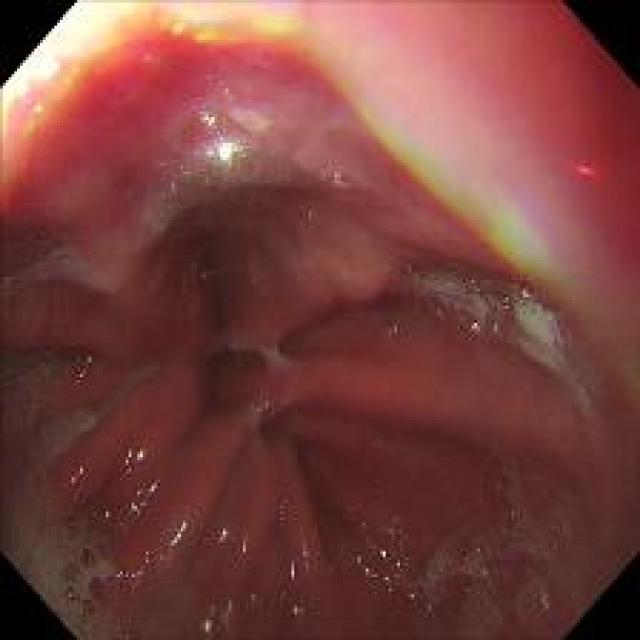bubbles: (4, 354, 68, 492), (2, 228, 75, 291), (24, 511, 96, 561), (56, 578, 114, 635)
color misalignment: (354, 71, 629, 379), (2, 15, 334, 228), (145, 99, 329, 212), (406, 259, 532, 356), (349, 520, 428, 608), (434, 536, 501, 605), (190, 579, 269, 632), (109, 538, 161, 592), (65, 341, 100, 389), (115, 480, 161, 516), (209, 524, 252, 562), (155, 520, 191, 564), (282, 538, 316, 582), (282, 595, 320, 634), (114, 444, 151, 476), (246, 386, 278, 422), (502, 504, 530, 541), (534, 579, 560, 611), (89, 496, 116, 526), (59, 461, 90, 485), (376, 312, 398, 344)
